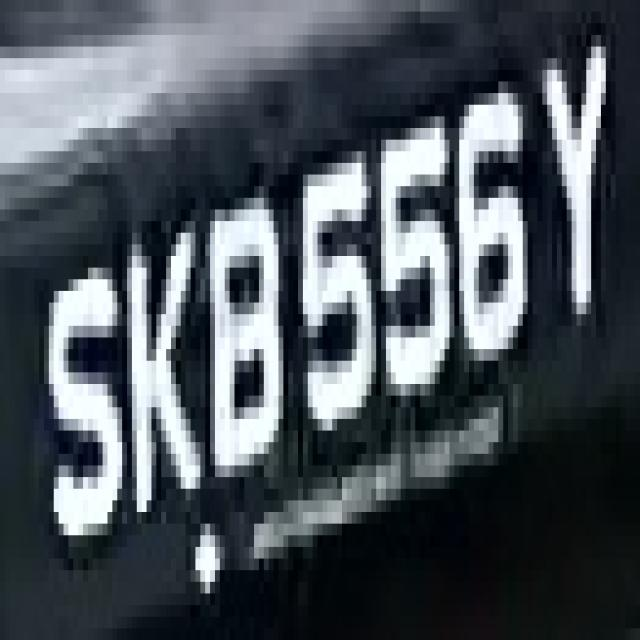5: (362, 81, 454, 408), (298, 151, 381, 442)
6: (450, 58, 542, 396)
B: (190, 152, 284, 500)
K: (117, 186, 210, 547)
S: (34, 221, 122, 582)
Y: (542, 0, 626, 349)
